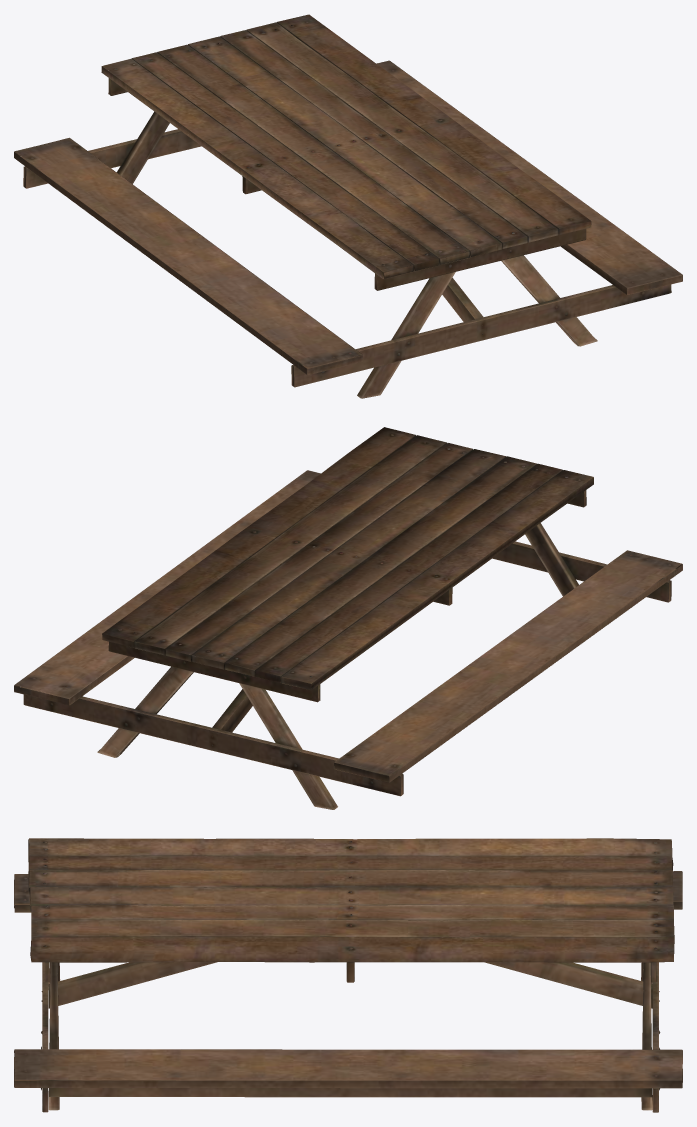
The model's file is table.glb.
3 renders of one model, top to bottom at view 1: azimuth 30°, elevation 25°; view 2: azimuth 150°, elevation 25°; view 3: azimuth 270°, elevation 25°, orthographic. The views are drawn at different scales.
Parts seen in each view (by area): view 1: wooden_picnic_table; view 2: wooden_picnic_table; view 3: wooden_picnic_table.
Part boxes in pixels (<box>): wooden_picnic_table: <box>14,14,682,398</box>; wooden_picnic_table: <box>14,427,682,809</box>; wooden_picnic_table: <box>14,838,682,1112</box>.
Bounding box in the file's own units: 2.24 × 0.7462 × 3.02.
2 materials, 2 textured.
